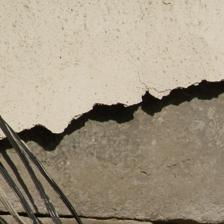Crack: (2, 37, 221, 108)
